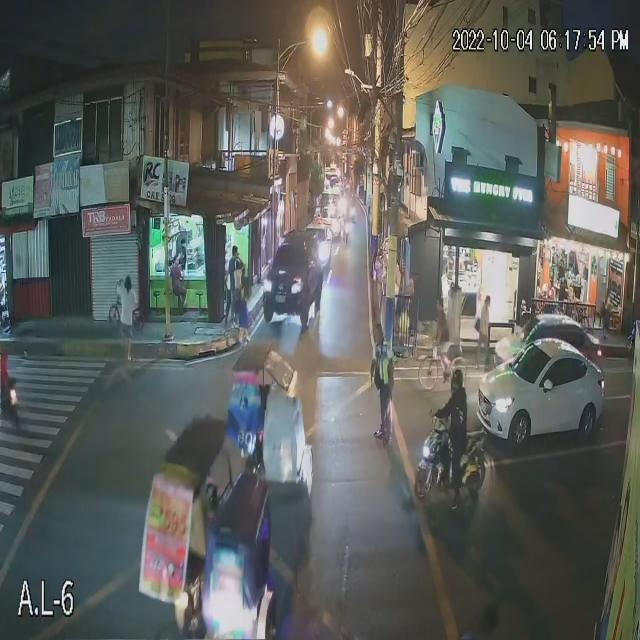helmet: (441, 370, 462, 391)
motorcycle: (420, 441, 484, 487), (0, 384, 25, 427)
rider: (447, 394, 462, 471), (1, 360, 11, 394)
